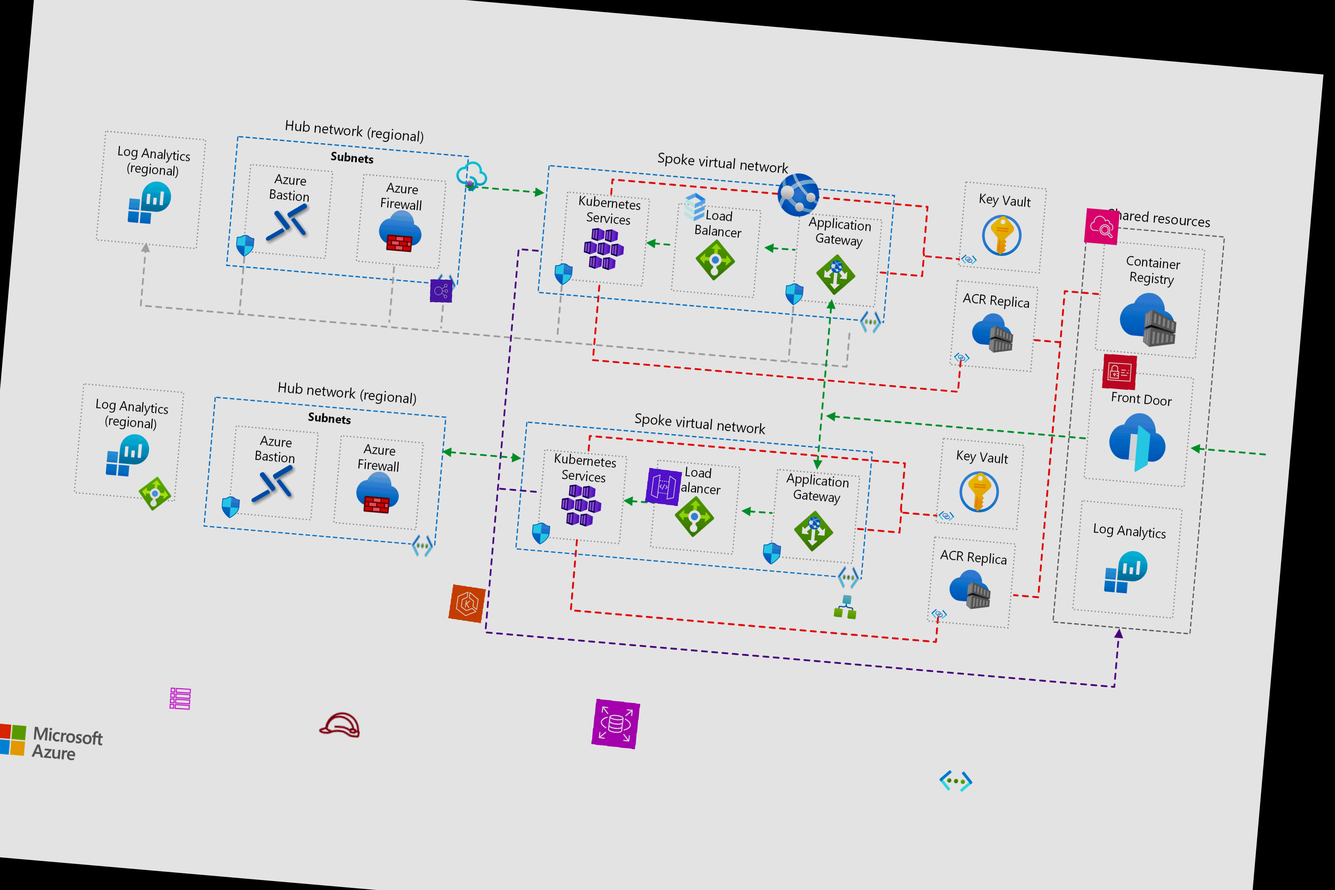aws_amazon_api_gateway: (645, 468, 682, 506)
aws_amazon_cloudwatch: (1083, 208, 1120, 245)
aws_amazon_elastic_kubernetes_service: (448, 584, 486, 623)
aws_amazon_rds: (591, 698, 640, 749)
aws_dynamodb_table: (168, 686, 192, 711)
aws_elastic_load_balancing: (428, 278, 454, 304)
aws_identity_access_management_role: (315, 698, 366, 751)
aws_identity_and_access_management: (1101, 353, 1138, 391)
azure_api_management_services: (453, 157, 490, 195)
azure_app_services: (773, 168, 824, 221)
azure_load_balancers: (136, 474, 174, 514)
azure_logic_apps: (833, 593, 859, 619)
azure_virtual_networks: (938, 762, 974, 800)
gcp_cloud_sql: (676, 188, 713, 226)
